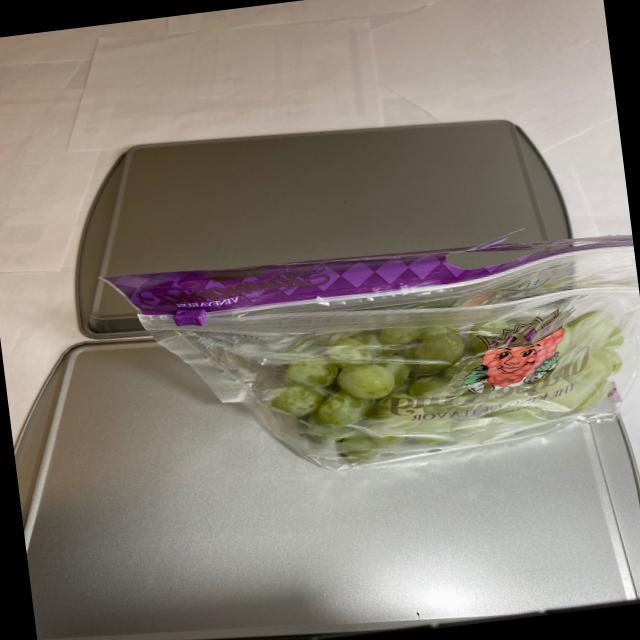grapes: (218, 293, 632, 472)
